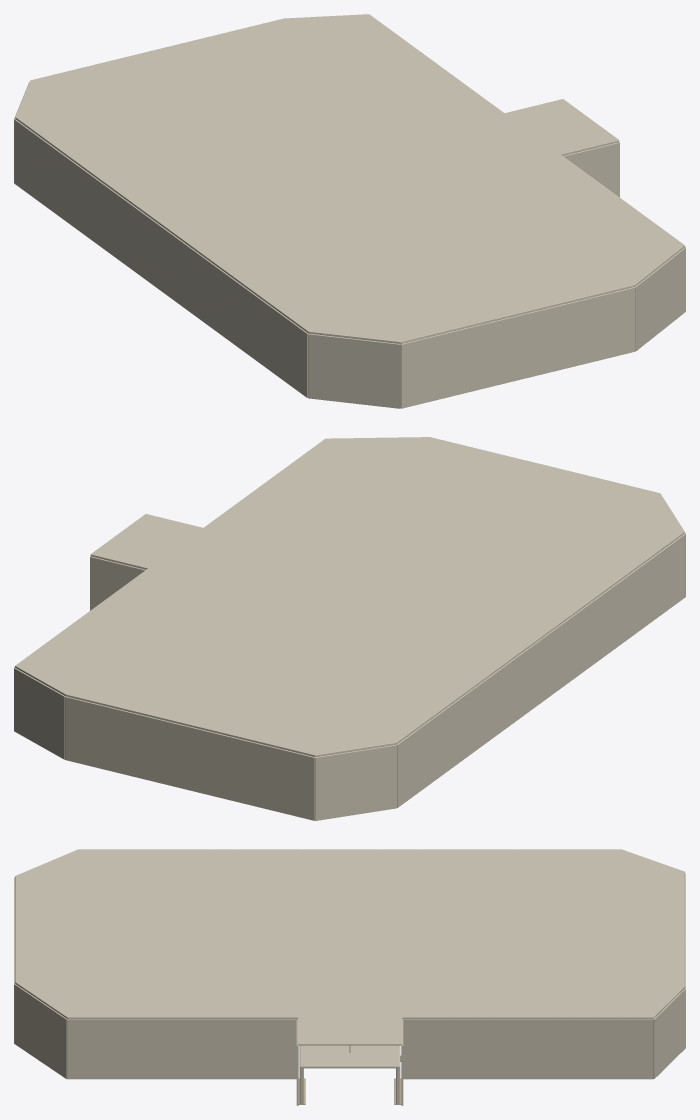
Rendered from section.glb.
3 views of the same model, one above another, from view 1: azimuth 30°, elevation 25°; view 2: azimuth 150°, elevation 25°; view 3: azimuth 270°, elevation 25° (orthographic). The views are drawn at different scales.
Parts seen in each view (by area): view 1: Enclosure_top, Perimeter_5, Perimeter_7, Perimeter_6, Perimeter_8, Perimeter_10; view 2: Enclosure_top, Perimeter_5, Perimeter_3, Perimeter_4, Perimeter_2, Perimeter_0; view 3: Enclosure_top, Perimeter_1, Perimeter_9, Perimeter_8, Entry_lintel, Perimeter_2.
Boxes of the visible parts, box(x1,y1,x2,y2) form: Enclosure_top: box(15, 14, 684, 343); Perimeter_5: box(14, 119, 308, 397); Perimeter_7: box(400, 287, 635, 408); Perimeter_6: box(308, 333, 400, 408); Perimeter_8: box(635, 247, 685, 350); Perimeter_10: box(563, 142, 619, 197); Enclosure_top: box(15, 437, 684, 756); Perimeter_5: box(396, 533, 685, 807); Perimeter_3: box(65, 696, 315, 820); Perimeter_4: box(315, 744, 396, 820); Perimeter_2: box(14, 668, 65, 759); Perimeter_0: box(90, 556, 145, 610); Enclosure_top: box(15, 849, 684, 1045); Perimeter_1: box(403, 1019, 653, 1079); Perimeter_9: box(67, 1019, 296, 1079); Perimeter_8: box(14, 984, 67, 1078); Entry_lintel: box(299, 1045, 400, 1068); Perimeter_2: box(653, 988, 685, 1078).
Size of the model in its own units: 44.11 by 6.5 by 64.22.
Materials: 23 (22 with a texture image).
